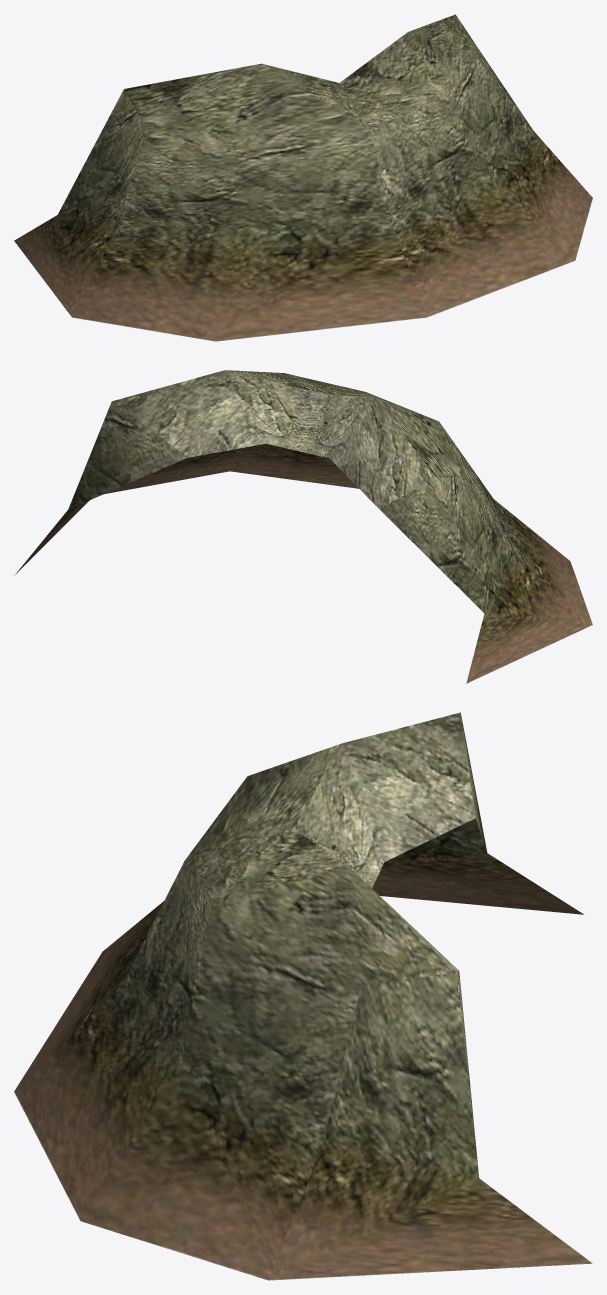
File: nast2.dae
3 views of the same model, one above another, from view 1: azimuth 30°, elevation 25°; view 2: azimuth 150°, elevation 25°; view 3: azimuth 270°, elevation 25° (orthographic). The views are drawn at different scales.
Parts seen in each view (by area): view 1: rock01; view 2: rock01; view 3: rock01.
Part boxes in pixels (x1=…): rock01: x1=14, y1=14, x2=592, y2=341; rock01: x1=14, y1=370, x2=592, y2=683; rock01: x1=14, y1=712, x2=592, y2=1280.
Bounding box in the file's own units: 5.44 × 3.39 × 1.95.
1 material, 1 textured.
